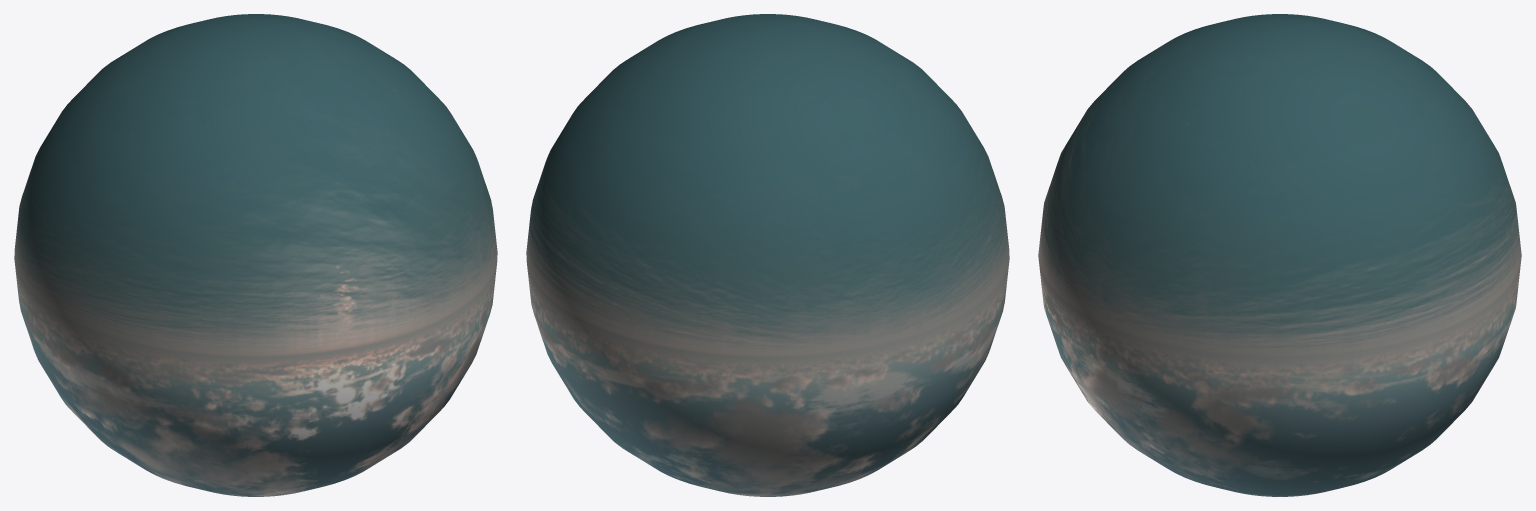
Rendered from skySphere.obj.
3 views of the same model, side by side, from view 1: azimuth 30°, elevation 25°; view 2: azimuth 150°, elevation 25°; view 3: azimuth 270°, elevation 25° (orthographic).
Visible parts, largest first — view 1: Sphere; view 2: Sphere; view 3: Sphere.
Part boxes in pixels (left/top/right/bottom): Sphere: left=14, top=14, right=497, bottom=496; Sphere: left=526, top=14, right=1009, bottom=496; Sphere: left=1038, top=14, right=1521, bottom=496.
Size of the model in its own units: 1097 by 1097 by 1097.
Materials: 1 (1 with a texture image).
